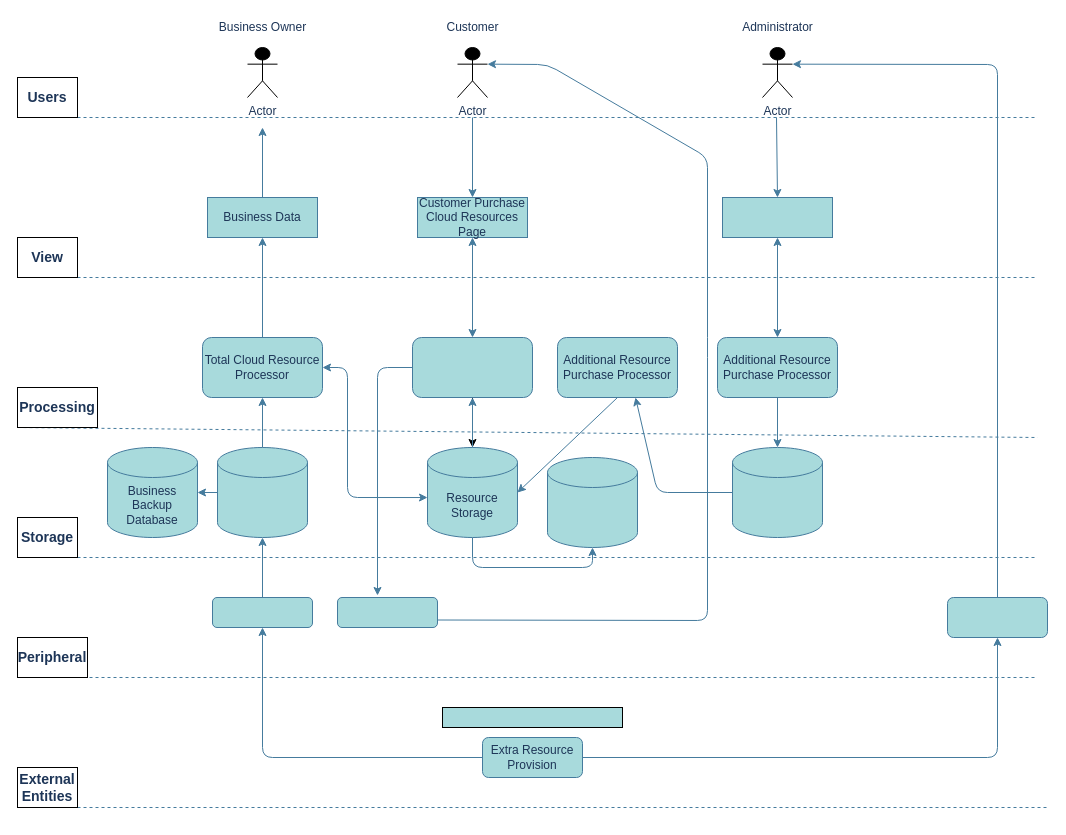
The diagram is 1066 pixels wide and 835 high, and some of its shapes have lost their labels. Here are the shapes that lost their labels. From the top down, the centre of each, then its label:
(x=777, y=217): Additional Resource Purchase Page
(x=472, y=367): Customer Resource Use Processor
(x=262, y=492): Main Business Storage- Resources And Their Use
(x=592, y=502): Backup Resource Storage
(x=777, y=492): Additional Resource Purchase Storage
(x=262, y=612): Sensors
(x=387, y=612): Email Confirmation
(x=997, y=617): New Resource Purchase Confirmation
(x=532, y=717): Other External Cloud Providers
